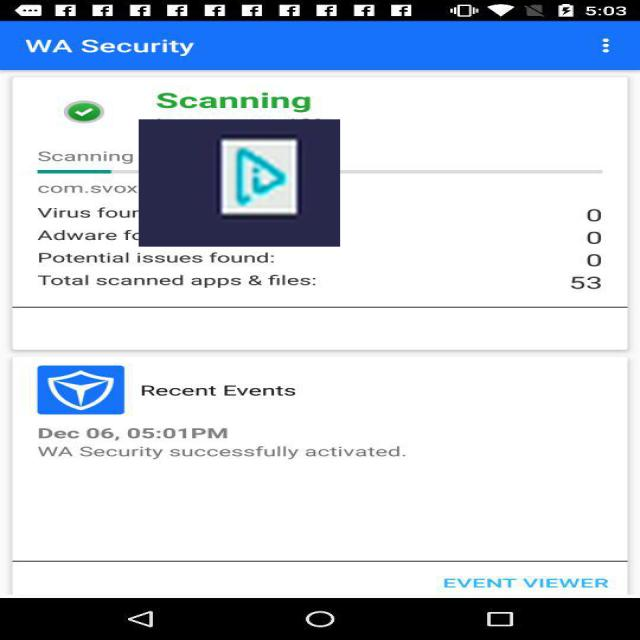sneaking: (139, 119, 340, 247)
